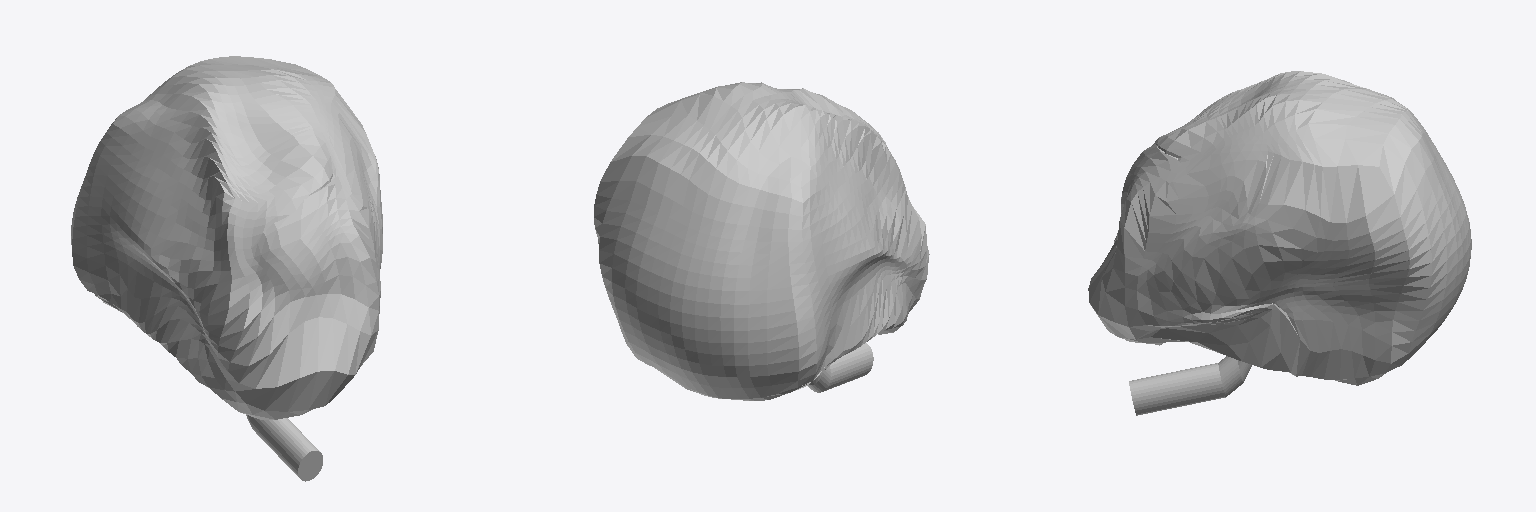
The model's file is LeftLung.obj.
The picture shows the model from 3 angles: view 1: azimuth 30°, elevation 25°; view 2: azimuth 150°, elevation 25°; view 3: azimuth 270°, elevation 25°; orthographic projection.
Visible parts, largest first — view 1: Mesh; view 2: Mesh; view 3: Mesh.
Part boxes in pixels (left/top/right/bottom): Mesh: left=71, top=56, right=382, bottom=481; Mesh: left=594, top=82, right=929, bottom=400; Mesh: left=1088, top=71, right=1471, bottom=415.
Bounding box in the file's own units: 3.5 × 4.82 × 4.98.